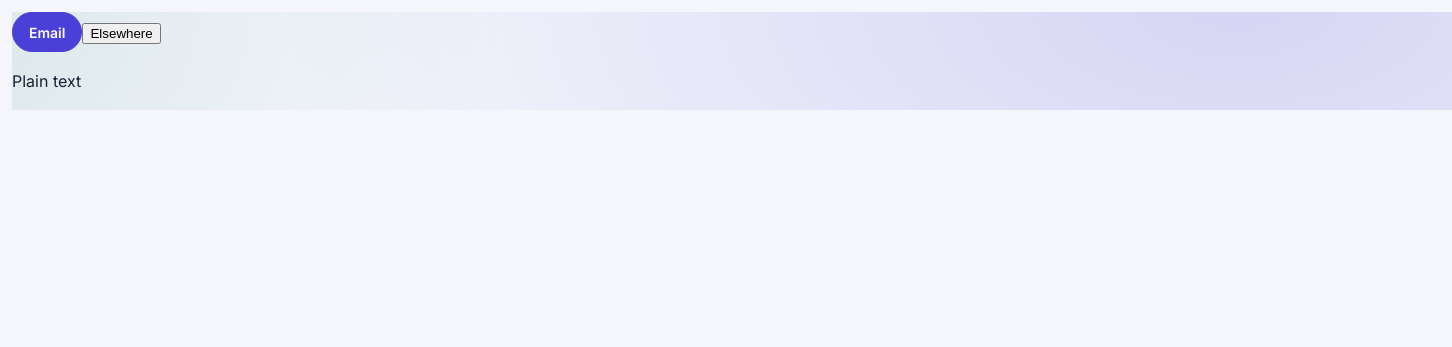
Test: EmailButton › opens on click and shows the address and the five choices
Later steps or results of the test are not shown.
Click the button "Email": (47,32) [12,12,82,52]
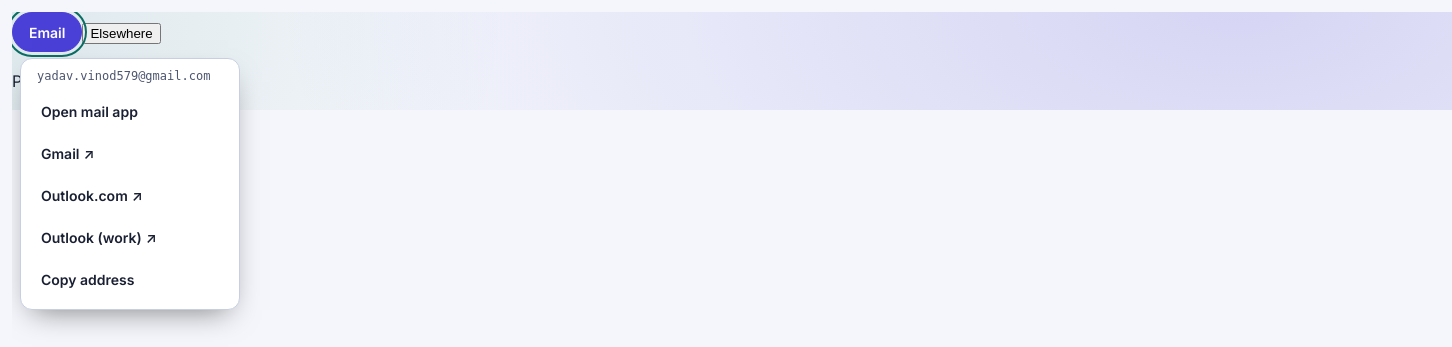
Now the text "yadav.vinod579@gmail.com" is shown, box [31,69,229,83]
Now the link "Open mail app" is shown, box [41,102,138,120]
Now the link "Gmail ↗" is shown, box [40,144,176,170]
